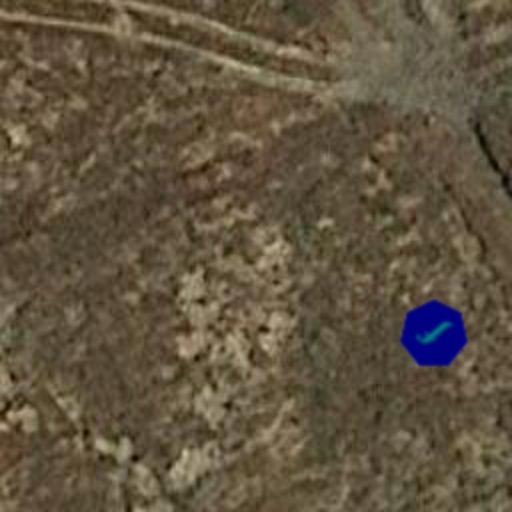heptagon: (384, 284, 484, 384)
